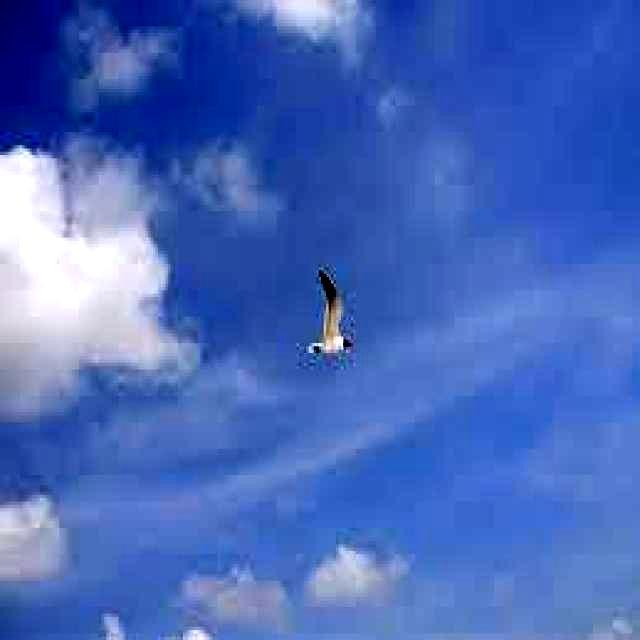bird: (306, 266, 356, 358)
